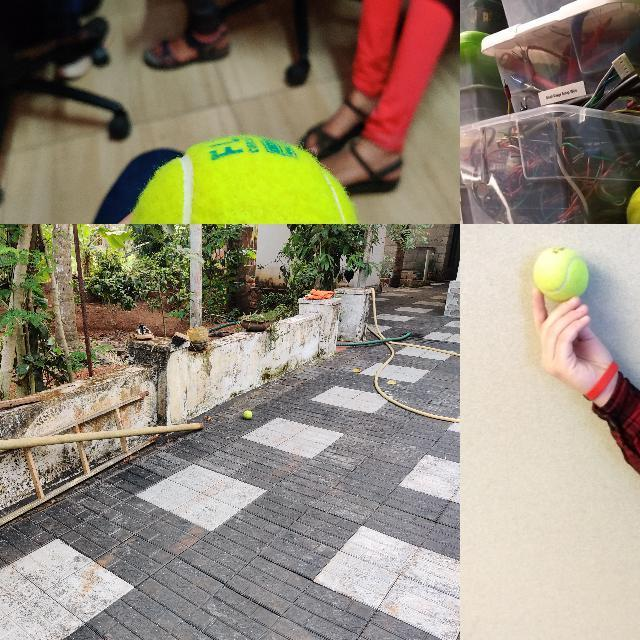tennis-ball: (127, 137, 361, 223), (532, 246, 590, 300), (243, 410, 252, 418)
